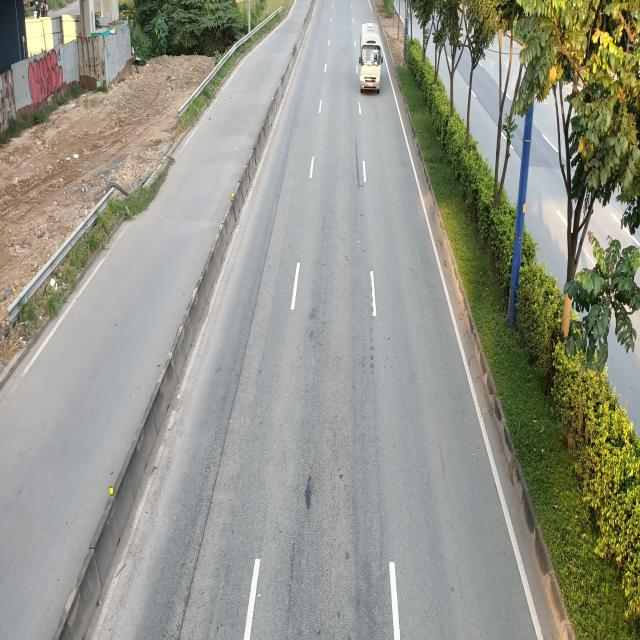coach: (359, 22, 383, 94)
